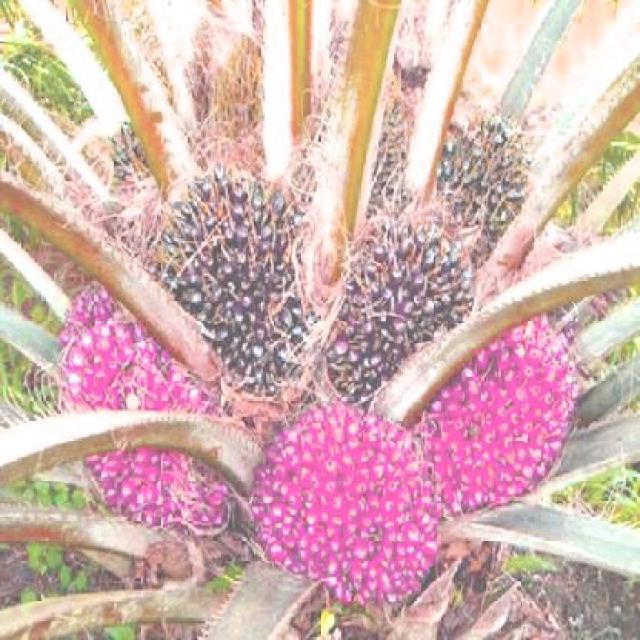palm-oil: (55, 296, 244, 567), (123, 160, 325, 380), (260, 396, 448, 610), (361, 80, 544, 280), (425, 314, 596, 511), (330, 187, 466, 390)
